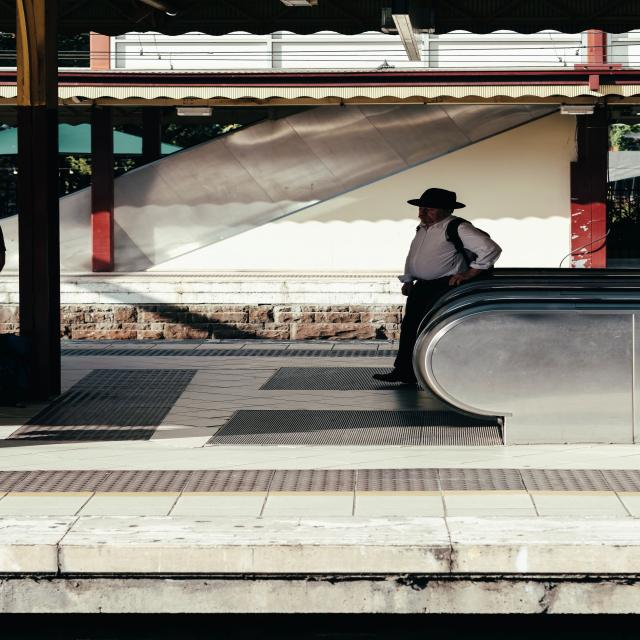adult: (371, 188, 503, 384)
